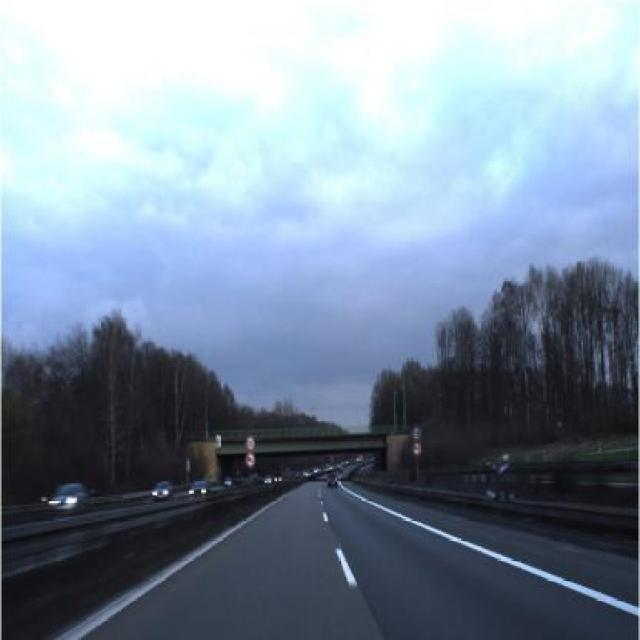forb_overtake_trucks: (410, 438, 424, 457), (244, 450, 257, 468)
forb_speed_over_120: (244, 434, 257, 454), (410, 423, 423, 442)
